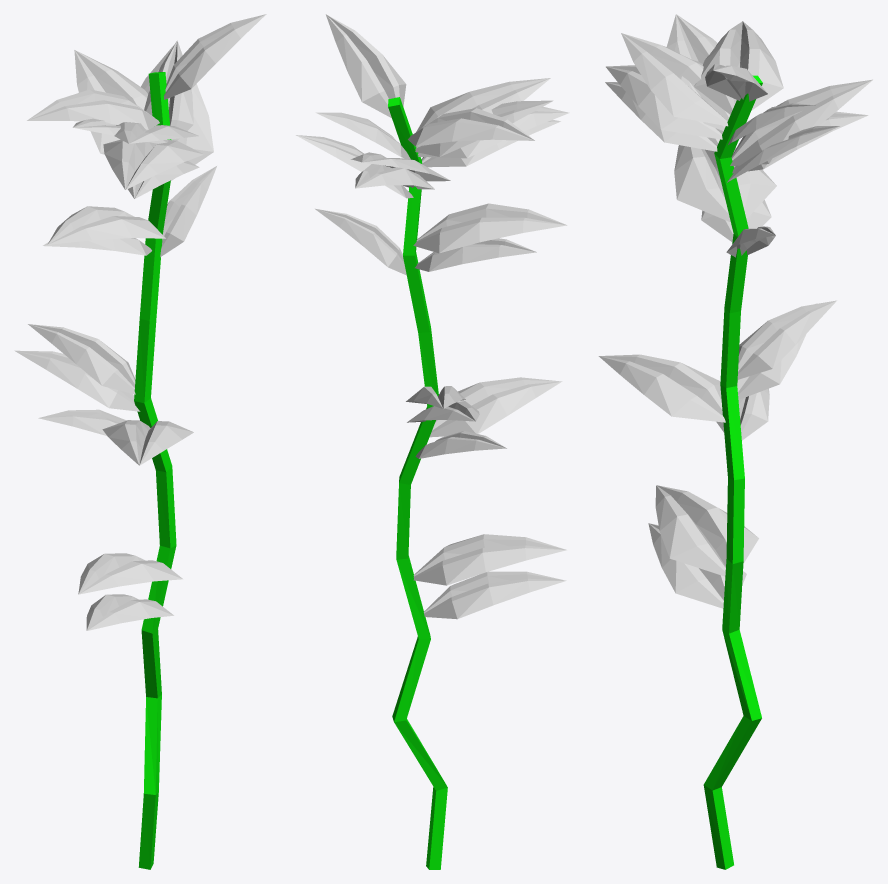
File: grasBig_3.fbx
3 views of the same model, side by side, from view 1: azimuth 30°, elevation 25°; view 2: azimuth 150°, elevation 25°; view 3: azimuth 270°, elevation 25° (orthographic). The views are drawn at different scales.
Parts seen in each view (by area): view 1: quickmaterial1; view 2: quickmaterial1; view 3: quickmaterial1.
Part boxes in pixels (x1,y1,x2,y2): quickmaterial1: (14,14,266,869); quickmaterial1: (296,14,569,869); quickmaterial1: (598,14,872,869).
Bounding box in the file's own units: 0.3126 × 1.07 × 0.3118.
